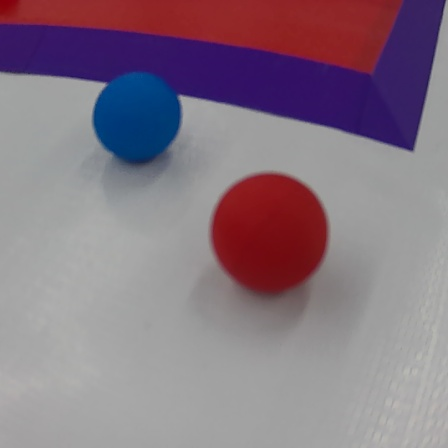blue: (88, 67, 185, 170)
red: (207, 171, 330, 299)
red_aim: (0, 0, 444, 164)
